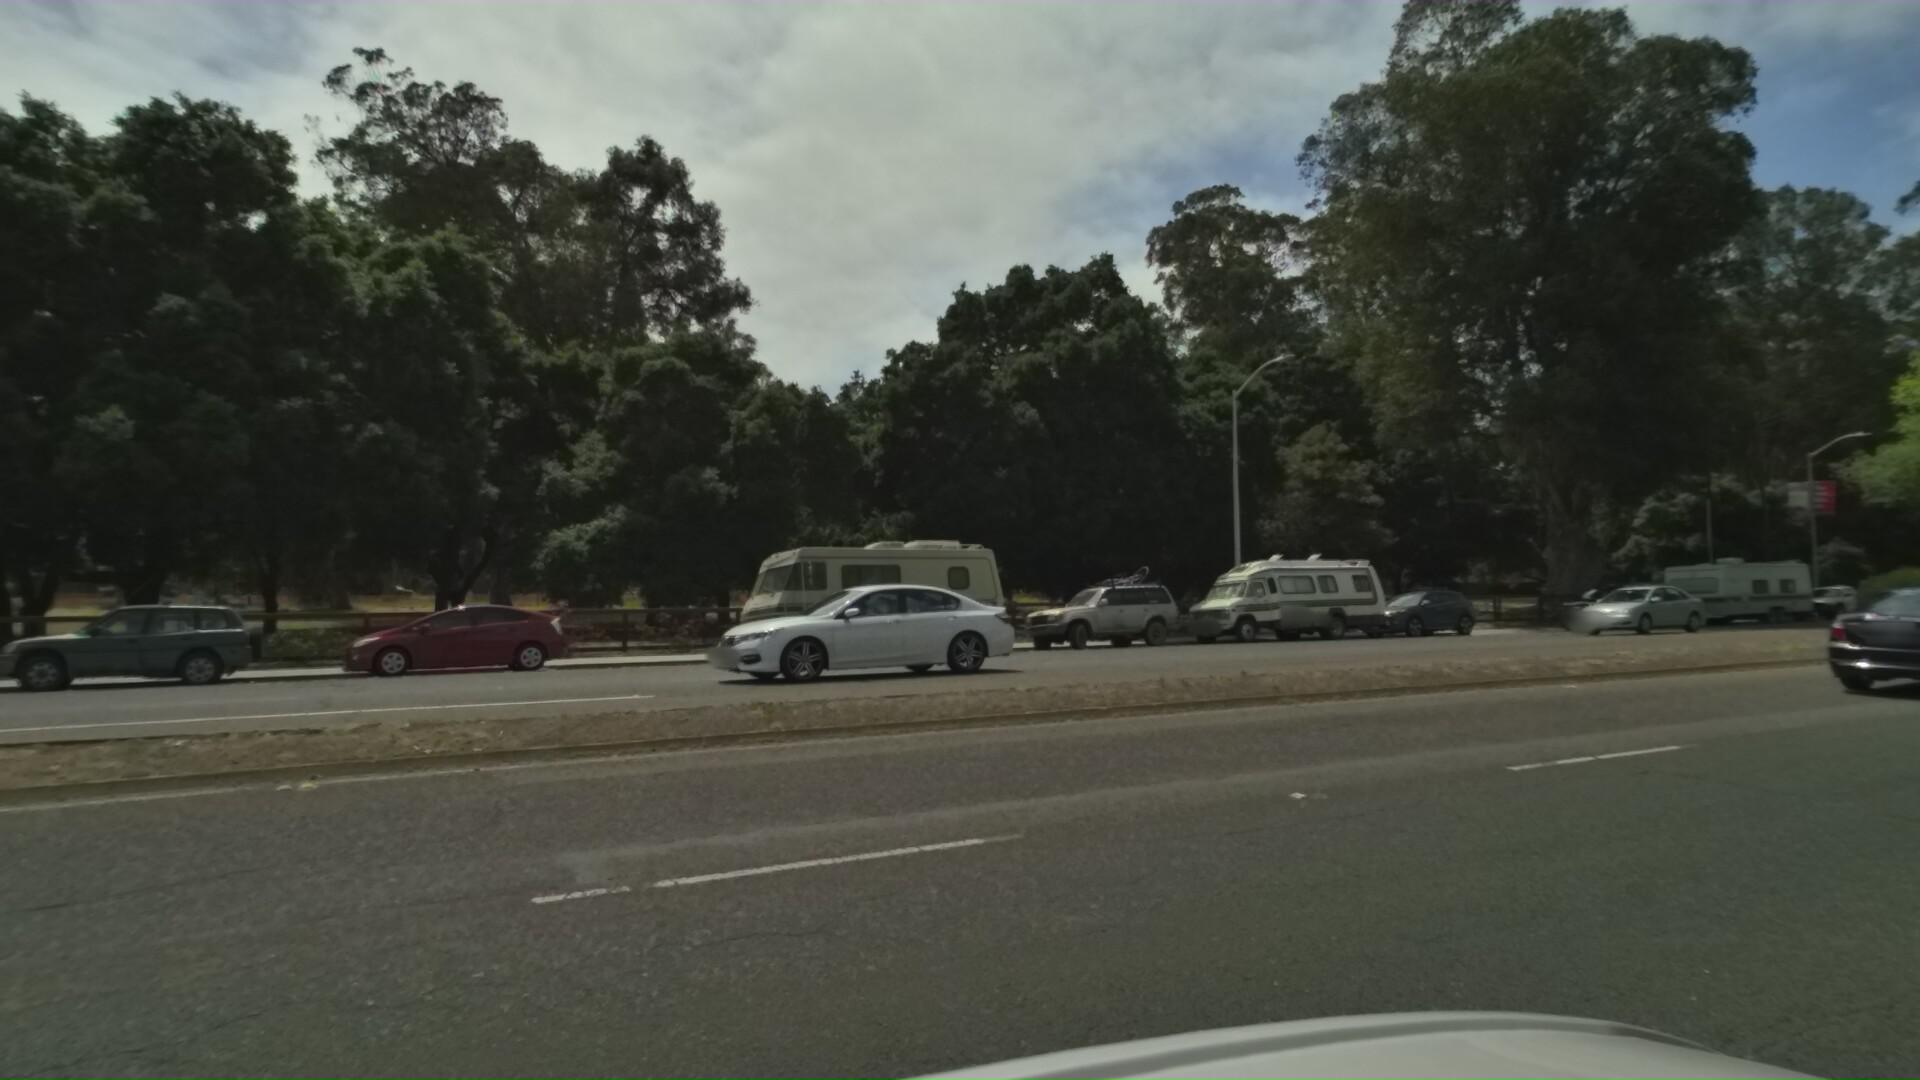car: (644, 578, 985, 690), (0, 601, 248, 704), (295, 604, 553, 694), (996, 566, 1174, 659), (1797, 574, 1920, 705), (1335, 584, 1477, 644), (1538, 584, 1687, 640), (1768, 578, 1876, 624)
other_vehicle: (700, 531, 1000, 666), (1156, 549, 1379, 650), (1629, 550, 1808, 632)
